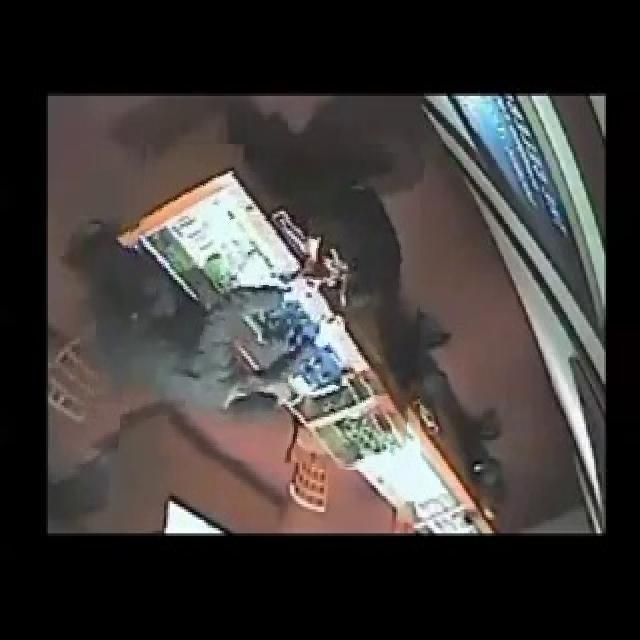Shoplifting: (124, 144, 420, 469)
